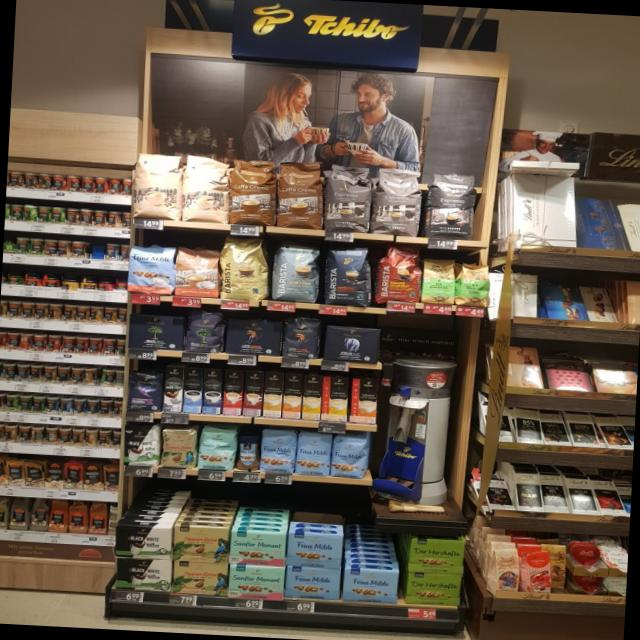AB Gemahlen: (323, 325, 382, 364)
Athiopien Bohne: (455, 262, 491, 308)
Athiopien Gemahlen: (420, 257, 457, 305)
BM Bohne: (184, 310, 228, 353)
BM Gemahlen: (129, 314, 185, 352)
BW Bohne: (122, 425, 160, 468)
BW Gemahlen: (114, 557, 172, 594), (114, 524, 172, 559)
Barista CB: (220, 236, 272, 300)
Barista CC: (270, 242, 323, 303)
Barista Espresso: (321, 245, 375, 308)
Barista Kolumbien: (373, 244, 423, 305)
C Fino Bohne: (127, 371, 164, 412)
CC Mild: (131, 151, 186, 221), (182, 155, 230, 224)
CC Vollmundig: (173, 246, 220, 298)
CC Vollmundig 36 Pads: (275, 161, 325, 230), (228, 158, 277, 227)
Colombia BB Bohne: (158, 427, 198, 470)
Colombia BB Gemahlen: (171, 525, 229, 563), (173, 561, 229, 597)
Empty Shelf: (344, 534, 403, 571)
Espresso Aromatisch: (371, 166, 423, 237)
Espresso Kraftig: (423, 170, 477, 240)
FM 36 Pads: (125, 245, 176, 295)
FM Bohne: (329, 435, 370, 479), (294, 432, 334, 477), (258, 429, 297, 475)
FM Gemahlen: (285, 532, 345, 570), (284, 566, 343, 602), (342, 568, 400, 604)
FM Instant: (235, 433, 262, 472)
Herzhatfe Mundig: (408, 537, 466, 574), (405, 573, 463, 607)
LG Bohne: (281, 315, 324, 360)
LG Gemahlen: (225, 318, 284, 357)
SM Bohne: (196, 426, 237, 472)
SM Gemahlen: (229, 530, 287, 567), (228, 564, 285, 601)
Simo CCMild: (321, 376, 349, 422)
Simo CCMild bigpack: (301, 374, 323, 421)
Simo CCVollmundig: (349, 378, 379, 424)
Simo CCVollmundig bigpack: (282, 373, 303, 419)
Simo Decaff: (263, 372, 284, 418)
Simo Es Brazil: (223, 370, 243, 416)
Simo Es Caramel: (242, 370, 264, 416)
Simo Es Elegant: (163, 366, 183, 412)
Simo Es Kraft: (202, 368, 224, 415)
Simo Es Vanilla: (183, 367, 204, 414)
